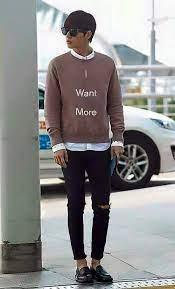pants: (59, 142, 114, 262)
sweater: (44, 48, 125, 150)
